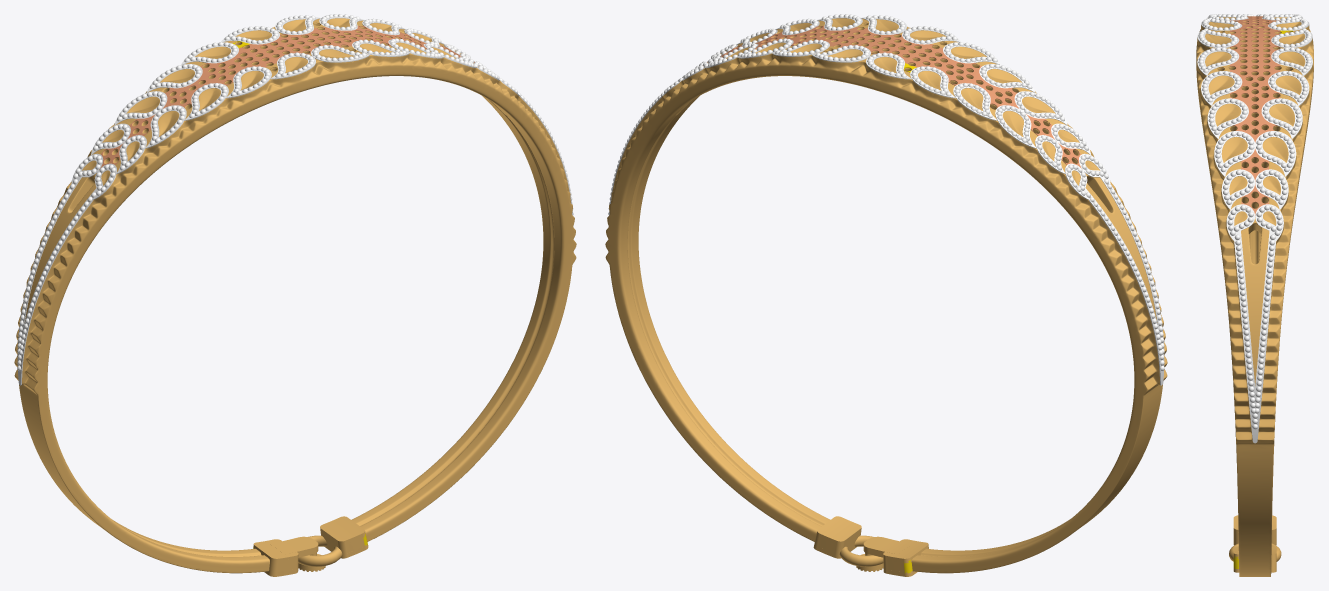
3 renders of one model, left to right at view 1: azimuth 30°, elevation 25°; view 2: azimuth 150°, elevation 25°; view 3: azimuth 270°, elevation 25°, orthographic. The views are drawn at different scales.
Parts seen in each view (by area): view 1: object_1.001, object_34.001, object_31.001, object_15.001, object_50.001; view 2: object_1.001, object_34.001, object_31.001, object_15.001, object_50.001; view 3: object_1.001, object_31.001, object_14.002, object_34.001, object_10.001, object_5.001, object_4.001, object_11.001, object_6.001, object_9.001, object_7.001, object_29.001 (+7 smaller).
Boxes of the visible parts, x1,y1,x2,y2 form: object_1.001: [14, 18, 576, 573]; object_34.001: [162, 34, 308, 108]; object_31.001: [282, 26, 427, 53]; object_15.001: [17, 177, 96, 385]; object_50.001: [320, 516, 365, 545]; object_1.001: [605, 18, 1167, 573]; object_34.001: [873, 34, 1019, 108]; object_31.001: [754, 26, 899, 53]; object_15.001: [1085, 177, 1164, 385]; object_50.001: [816, 516, 861, 545]; object_1.001: [1196, 17, 1313, 576]; object_31.001: [1230, 48, 1280, 142]; object_14.002: [1234, 231, 1276, 443]; object_34.001: [1230, 16, 1280, 47]; object_10.001: [1255, 131, 1296, 176]; object_5.001: [1214, 131, 1255, 176]; object_4.001: [1207, 98, 1248, 139]; object_11.001: [1261, 98, 1302, 139]; object_6.001: [1221, 169, 1255, 209]; object_9.001: [1255, 169, 1288, 209]; object_7.001: [1226, 204, 1255, 240]; object_29.001: [1241, 149, 1268, 181].
Bounding box in the file's own units: 0.0407 × 0.037 × 0.00775.
